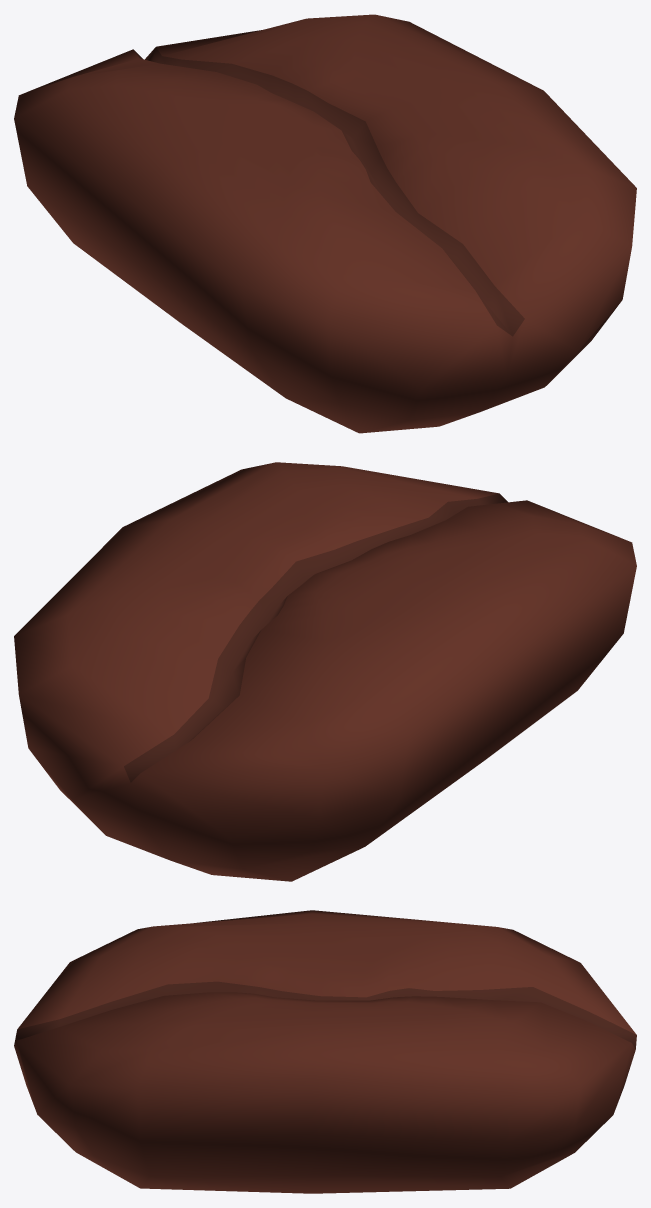
The model's file is Grano de café.fbx.
3 views of the same model, one above another, from view 1: azimuth 30°, elevation 25°; view 2: azimuth 150°, elevation 25°; view 3: azimuth 270°, elevation 25° (orthographic). The views are drawn at different scales.
Parts seen in each view (by area): view 1: Grano de café; view 2: Grano de café; view 3: Grano de café.
Part boxes in pixels (x1,y1,x2,y2): Grano de café: [14, 14, 636, 433]; Grano de café: [14, 462, 636, 881]; Grano de café: [14, 910, 636, 1193].
Bounding box in the file's own units: 211 × 114 × 327.
